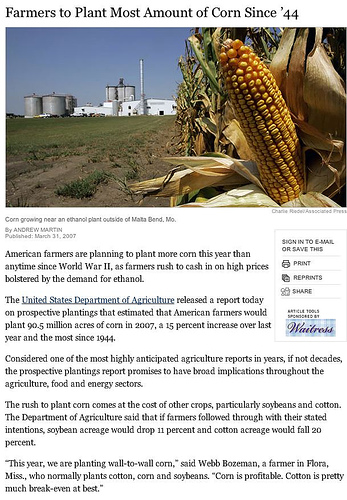corn: (214, 37, 305, 200)
